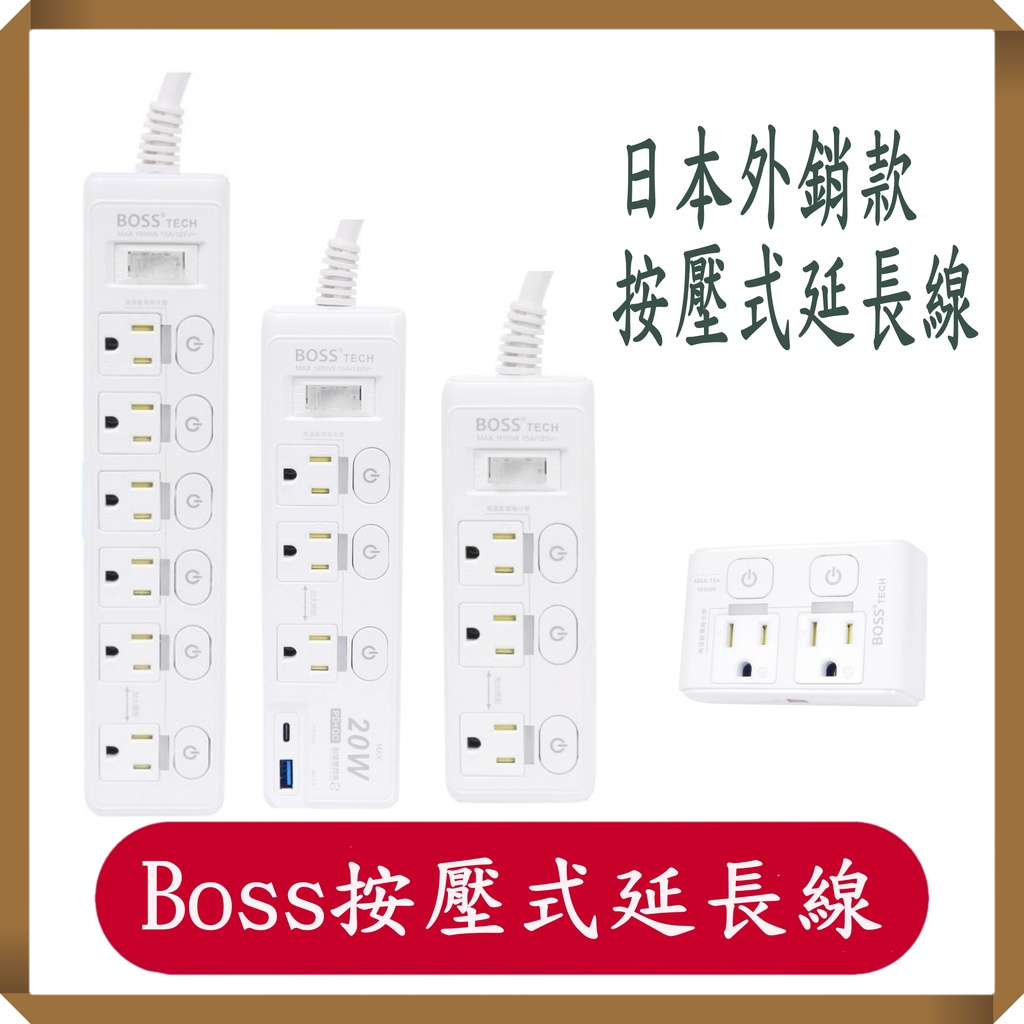socket: (78, 98, 232, 817), (255, 238, 406, 808), (440, 300, 596, 804), (680, 539, 928, 707)
